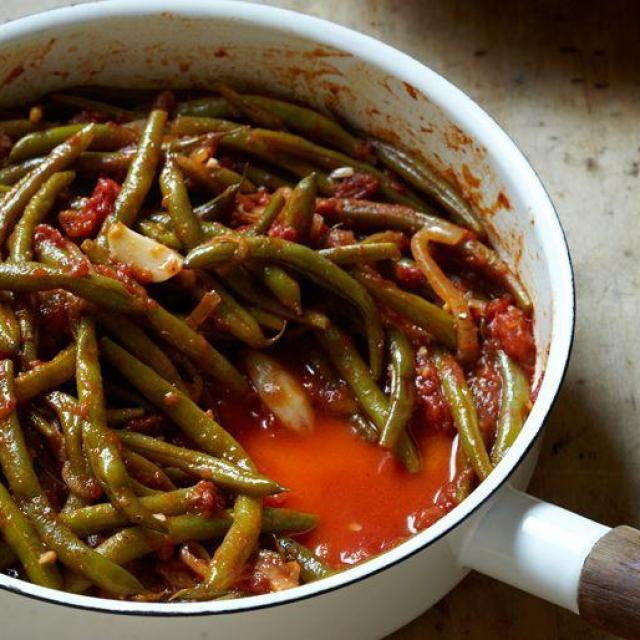Beans: (0, 67, 549, 600)
